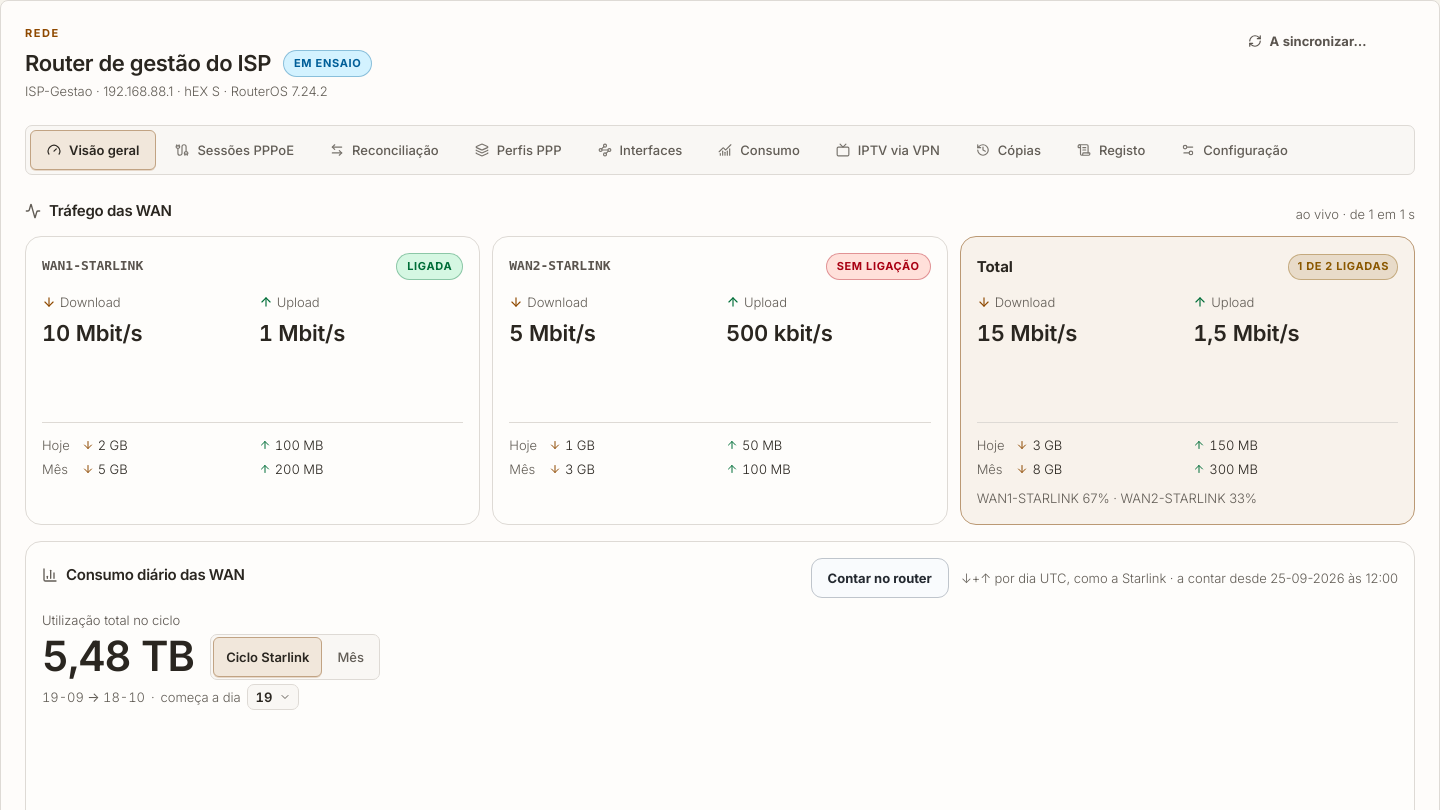
Test case: Router de gestão › criar utilizadores em falta mostra o plano antes de gravar
Click the tab with id "router-tab-sessions": x=235, y=150 [158,130,311,170]
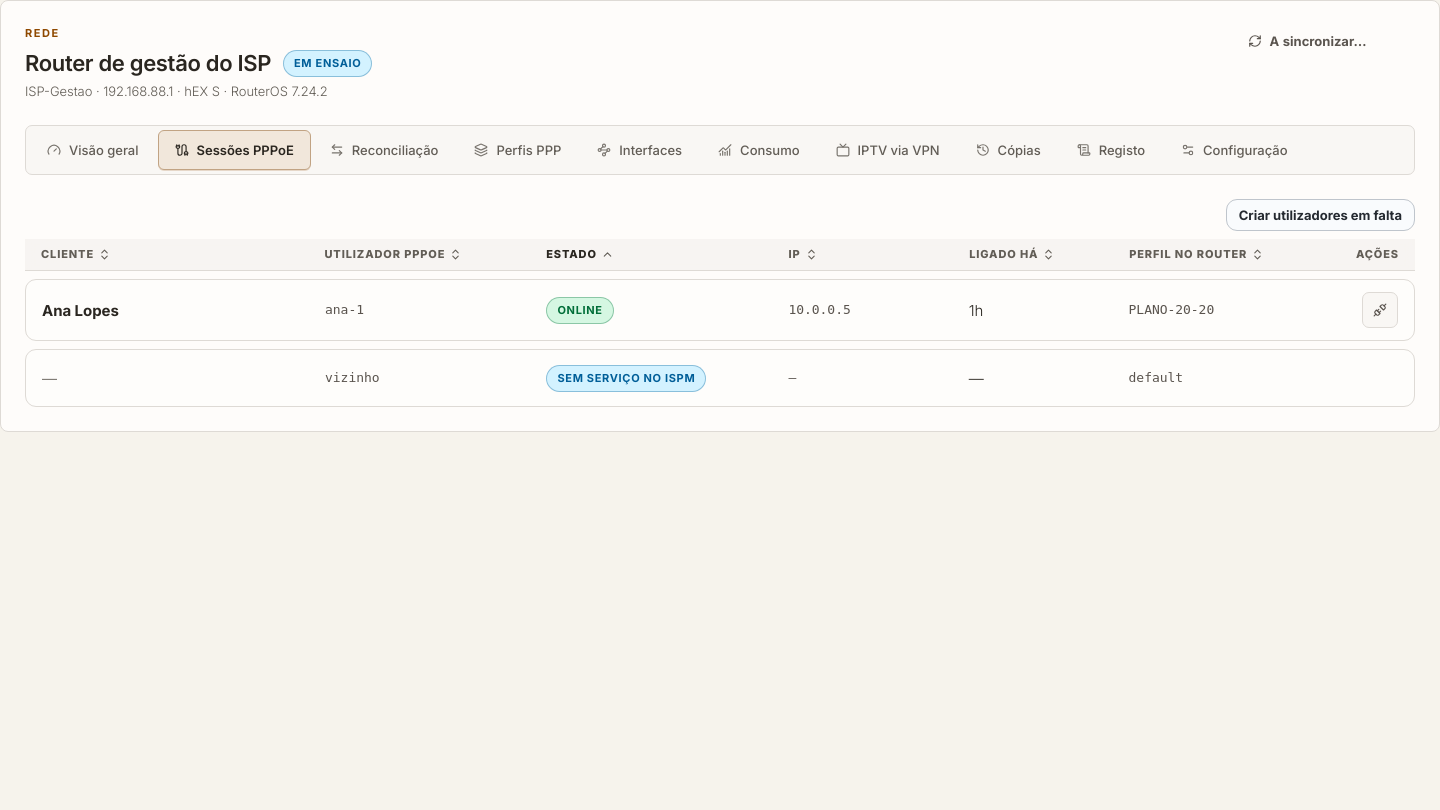
Click the button "Criar utilizadores em falta": x=1320, y=215 [1226,199,1415,231]
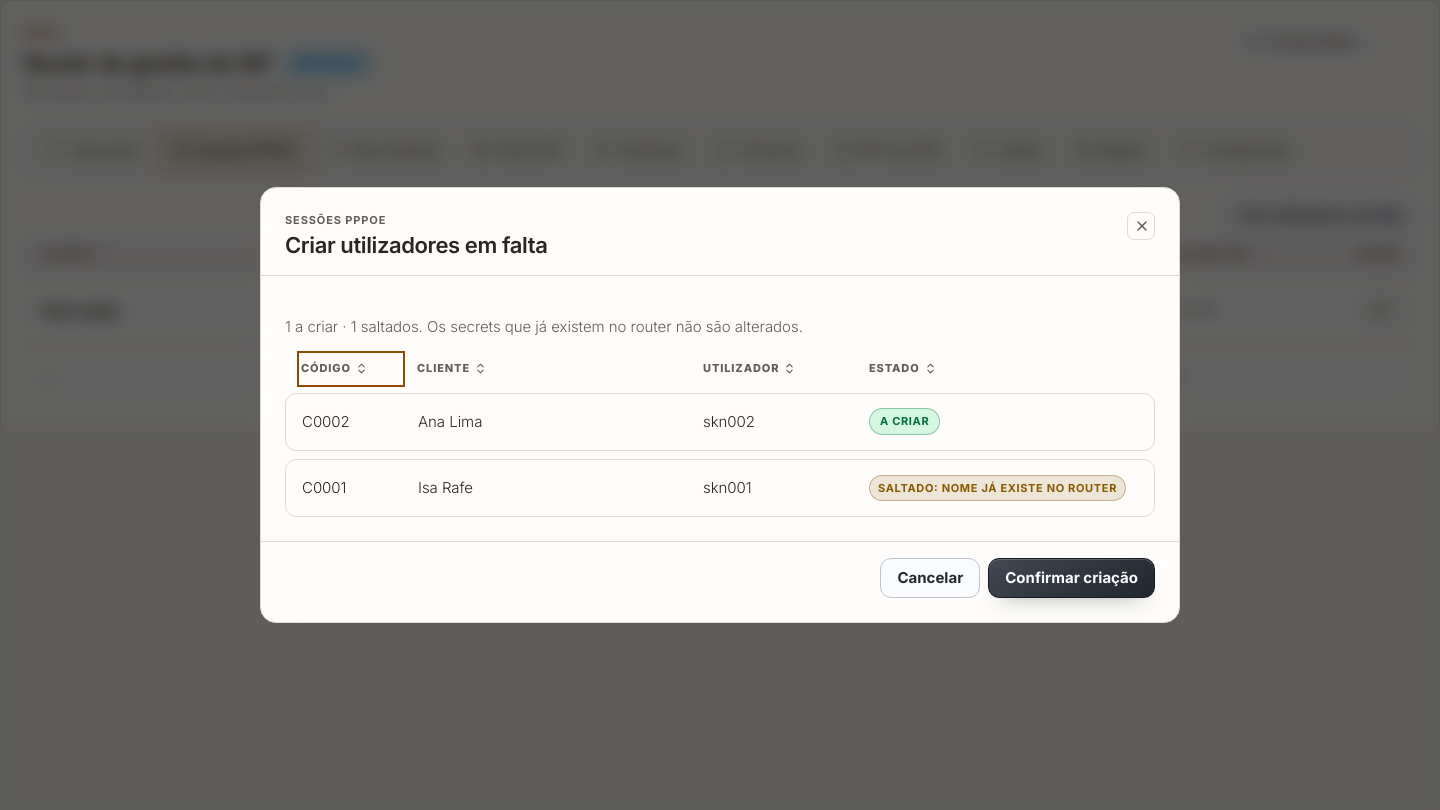
Check: the text "1 a criar · 1 saltados" is shown, box [285,316,803,336]
Check: the text "skn002" is shown, box [703,412,755,431]
Check: the text "nome já existe no router" is shown, box [942,480,1117,494]
Click the button "Confirmar criação": x=1072, y=578 [988,558,1155,598]
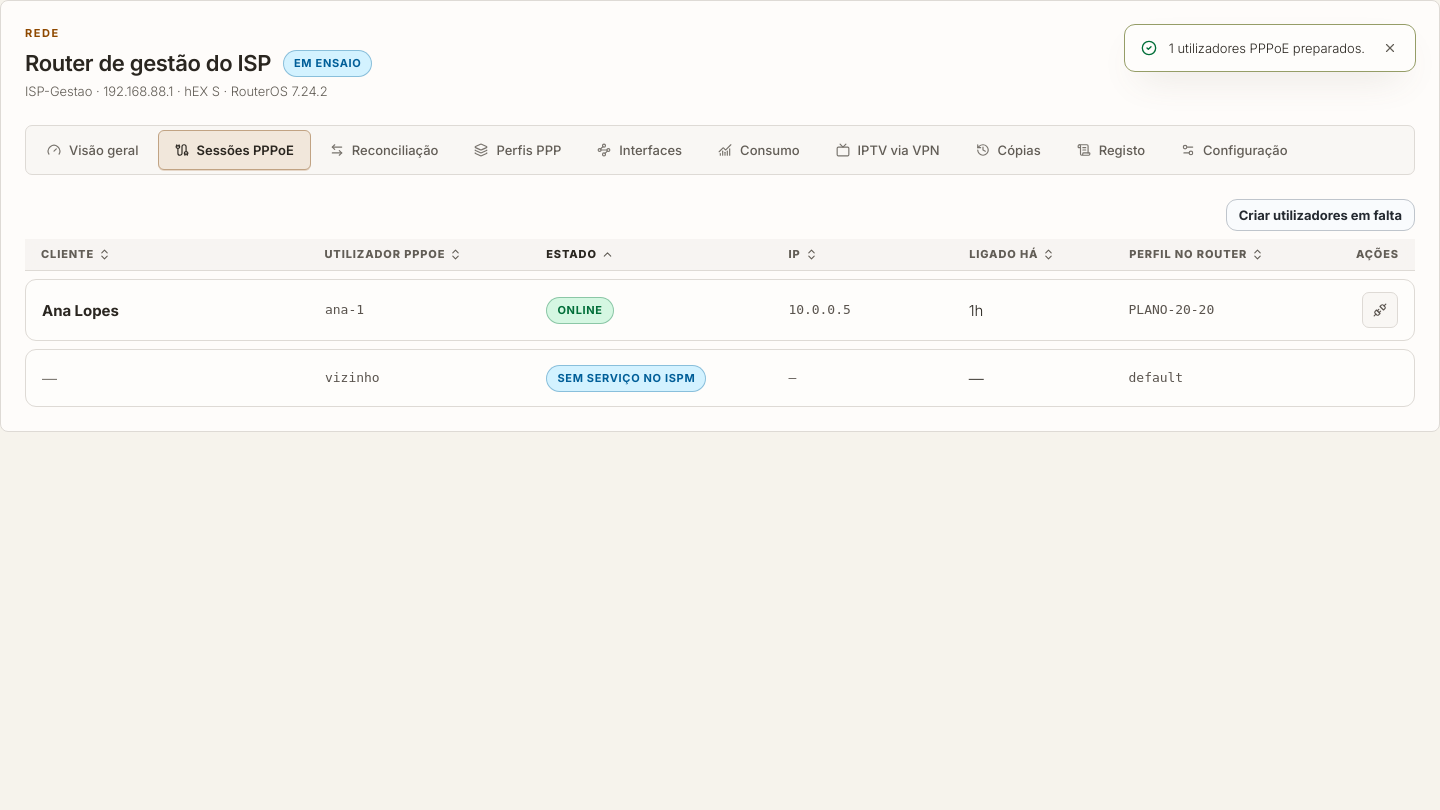
Check: the text "1 utilizadores PPPoE preparados." is shown, box [1169,38,1365,58]
